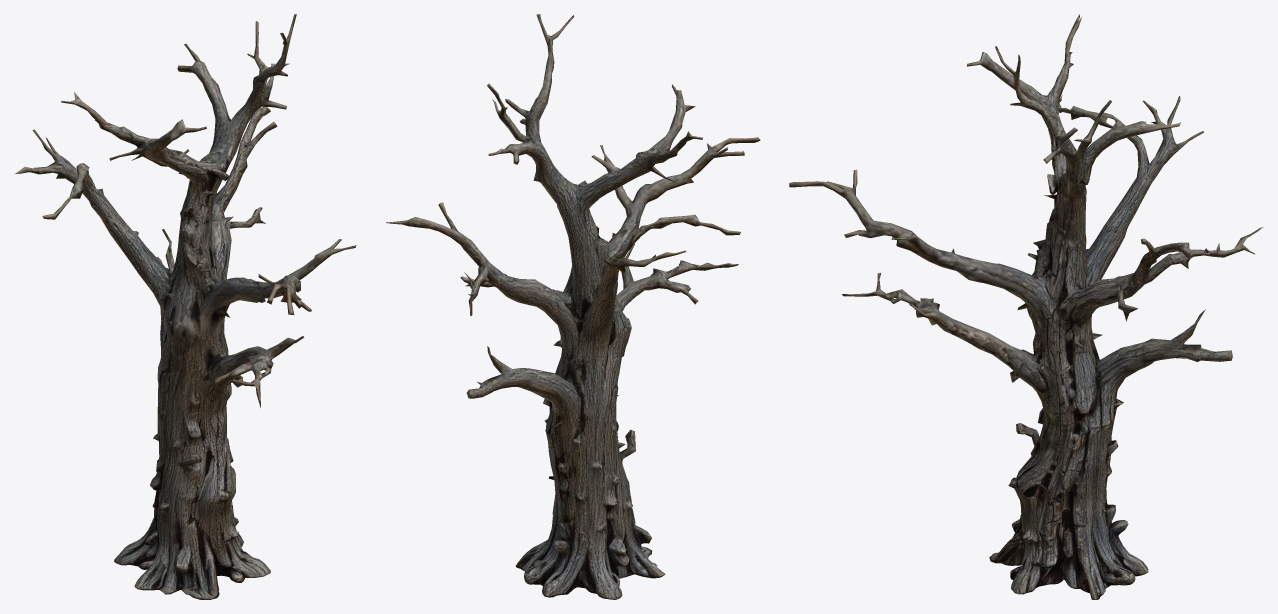
The model's file is tree_dead_real-B0YrGL-w.glb.
3 renders of one model, left to right at view 1: azimuth 30°, elevation 25°; view 2: azimuth 150°, elevation 25°; view 3: azimuth 270°, elevation 25°, orthographic. The views are drawn at different scales.
Parts seen in each view (by area): view 1: tripo_node_18236b5c-5e8e-401e-9ccf-4a7a7d907f72; view 2: tripo_node_18236b5c-5e8e-401e-9ccf-4a7a7d907f72; view 3: tripo_node_18236b5c-5e8e-401e-9ccf-4a7a7d907f72.
Part boxes in pixels (left/top/right/bottom): tripo_node_18236b5c-5e8e-401e-9ccf-4a7a7d907f72: left=15, top=14, right=356, bottom=599; tripo_node_18236b5c-5e8e-401e-9ccf-4a7a7d907f72: left=386, top=14, right=760, bottom=599; tripo_node_18236b5c-5e8e-401e-9ccf-4a7a7d907f72: left=789, top=14, right=1263, bottom=599.
Bounding box in the file's own units: 0.569 × 0.9982 × 0.7766.
1 material, 1 textured.
